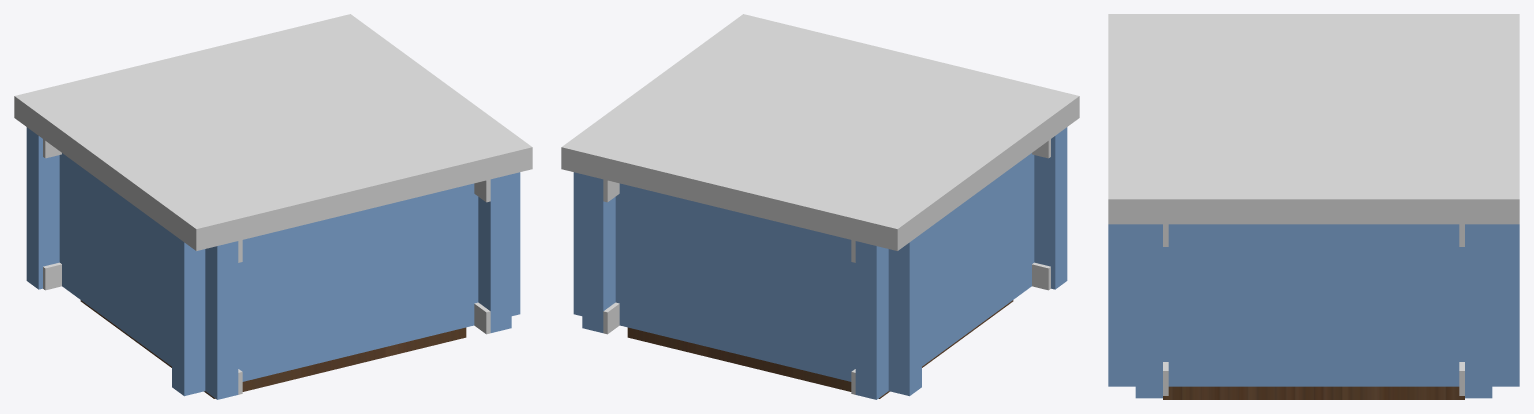
3 renders of one model, left to right at view 1: azimuth 30°, elevation 25°; view 2: azimuth 150°, elevation 25°; view 3: azimuth 270°, elevation 25°, orthographic. The views are drawn at different scales.
Visible parts, largest first — view 1: Cube.001, Cube.005, Cube.002, Cube.003, Cube.004, Cube, Cube.010; view 2: Cube.001, Cube.004, Cube.002, Cube.003, Cube.005, Cube, Cube.012; view 3: Cube.001, Cube.003, Cube.004, Cube.005, Cube.
Part boxes in pixels (left/top/right/bottom): Cube.001: left=14, top=14, right=532, bottom=250; Cube.005: left=172, top=172, right=520, bottom=396; Cube.002: left=59, top=153, right=238, bottom=399; Cube.003: left=478, top=174, right=511, bottom=332; Cube.004: left=26, top=127, right=59, bottom=289; Cube: left=80, top=300, right=466, bottom=398; Cube.010: left=43, top=262, right=61, bottom=290; Cube.001: left=561, top=14, right=1079, bottom=250; Cube.004: left=573, top=172, right=921, bottom=396; Cube.002: left=855, top=153, right=1034, bottom=399; Cube.003: left=582, top=174, right=615, bottom=332; Cube.005: left=1034, top=127, right=1067, bottom=289; Cube: left=627, top=300, right=1013, bottom=398; Cube.012: left=1032, top=262, right=1050, bottom=290; Cube.001: left=1108, top=14, right=1519, bottom=224; Cube.003: left=1108, top=224, right=1519, bottom=386; Cube.004: left=1465, top=224, right=1492, bottom=398; Cube.005: left=1135, top=224, right=1162, bottom=398; Cube: left=1163, top=386, right=1464, bottom=399.
Size of the model in its own units: 16 by 9 by 15.
7 materials, 1 textured.
